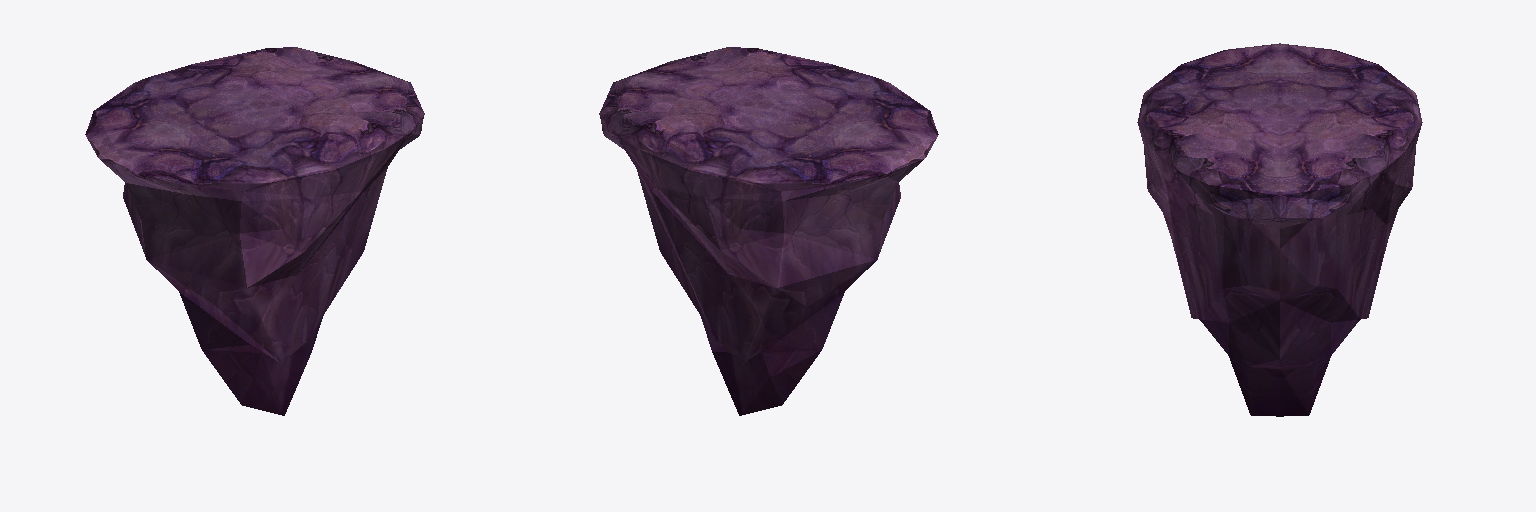
3 renders of one model, left to right at view 1: azimuth 30°, elevation 25°; view 2: azimuth 150°, elevation 25°; view 3: azimuth 270°, elevation 25°, orthographic.
Visible parts, largest first — view 1: netherstorm_overhangrock_large_010; view 2: netherstorm_overhangrock_large_010; view 3: netherstorm_overhangrock_large_010.
Boxes of the visible parts, x1=… form: netherstorm_overhangrock_large_010: x1=85, y1=47, x2=424, y2=415; netherstorm_overhangrock_large_010: x1=599, y1=47, x2=938, y2=415; netherstorm_overhangrock_large_010: x1=1137, y1=43, x2=1422, y2=416.
Size of the model in its own units: 71.19 by 67.28 by 55.84.
1 materials, 1 textured.